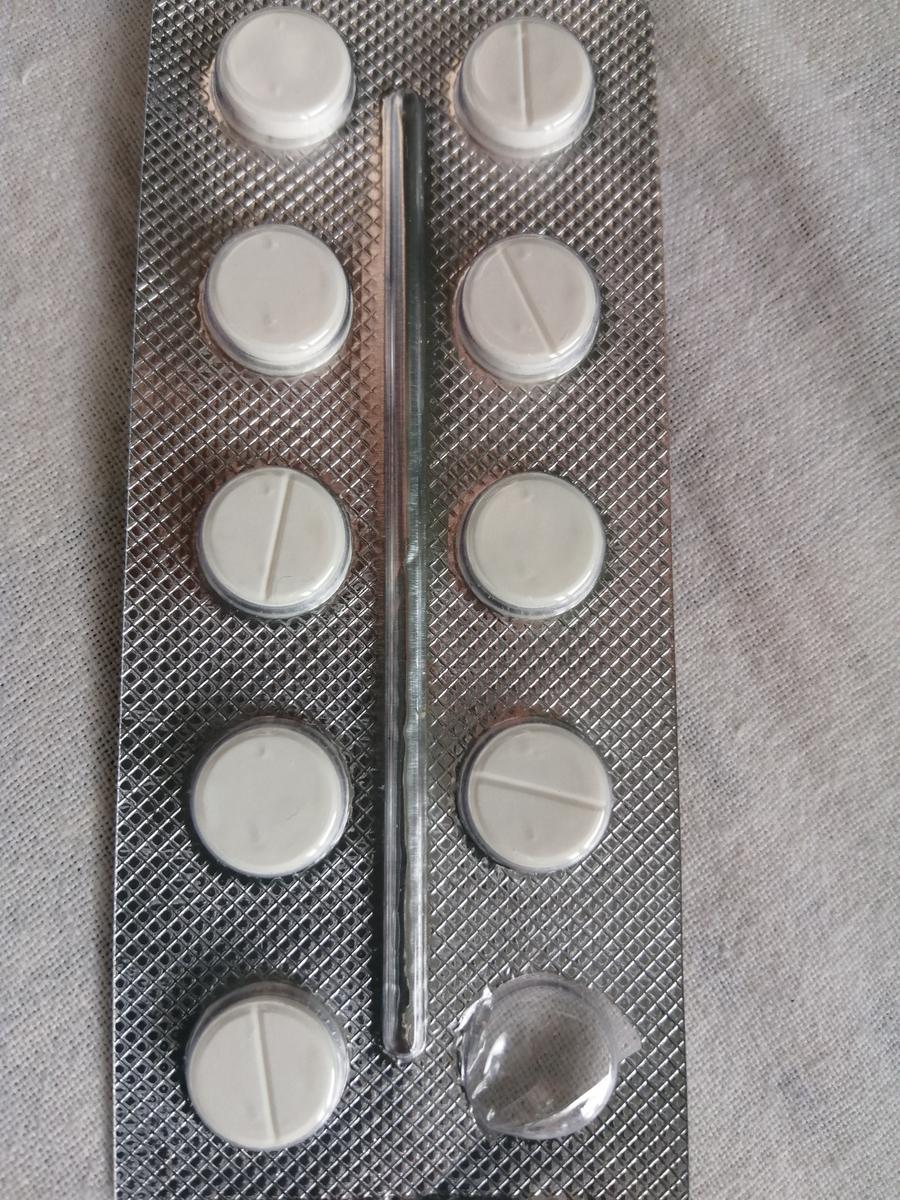tablet: (190, 456, 361, 626), (182, 987, 352, 1150), (450, 715, 616, 873), (187, 715, 349, 876), (202, 217, 364, 377), (456, 227, 605, 395), (211, 1, 372, 155), (459, 463, 613, 623), (443, 8, 602, 158)
